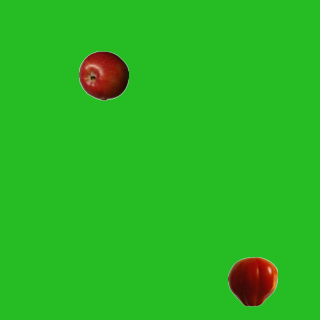Apple Braeburn: (78, 50, 128, 100)
Tomato 1: (227, 256, 277, 306)
